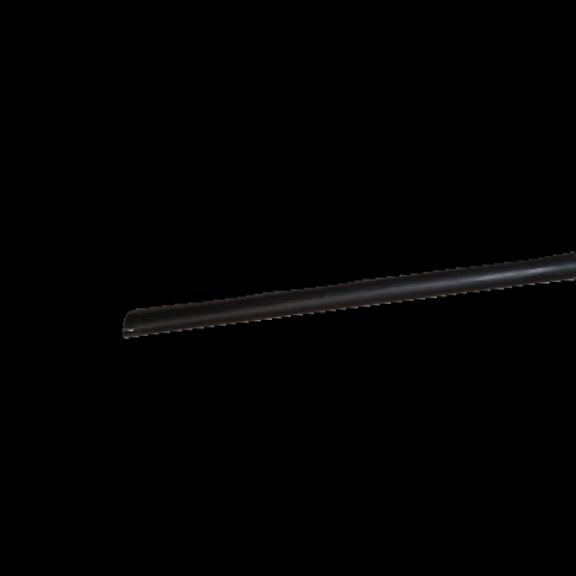Plastik: (112, 240, 576, 415)
